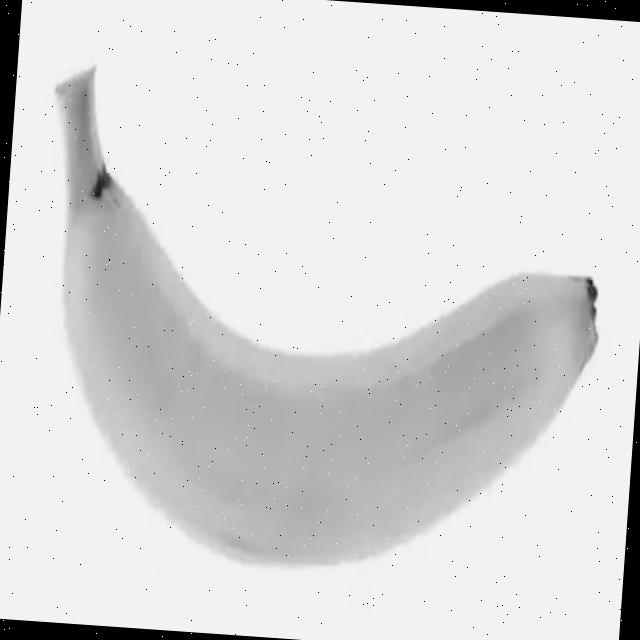banana: (24, 59, 616, 586)
